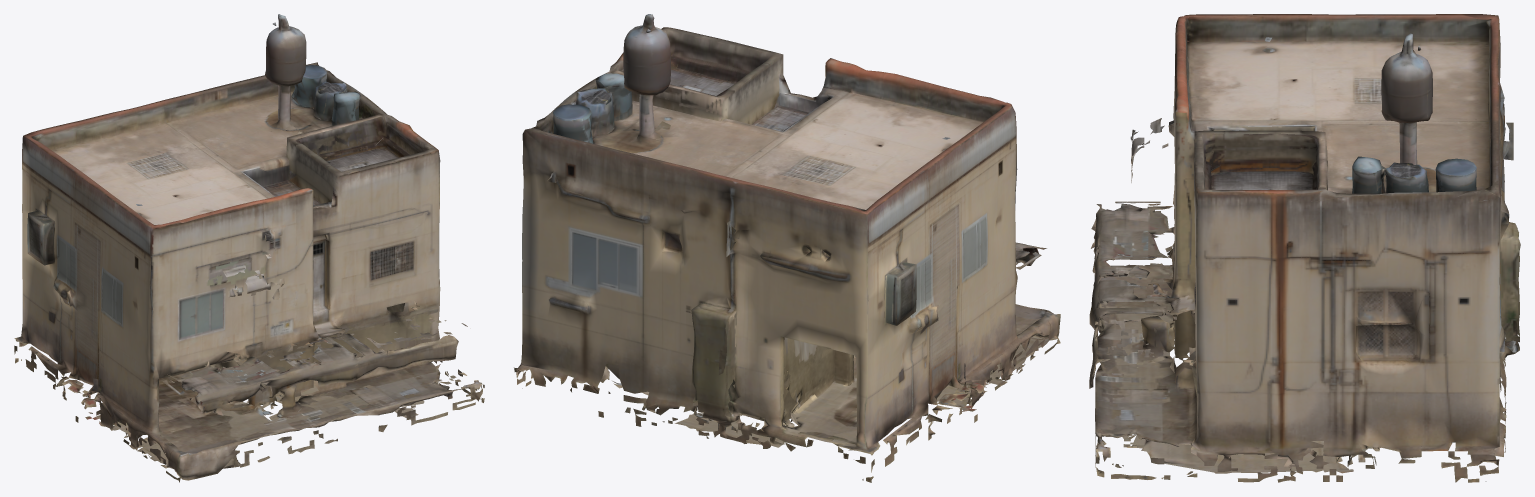
The model's file is Deserted_Rooftop_Shel_0706224128_texture.fbx.
3 renders of one model, left to right at view 1: azimuth 30°, elevation 25°; view 2: azimuth 150°, elevation 25°; view 3: azimuth 270°, elevation 25°, orthographic. The views are drawn at different scales.
Parts seen in each view (by area): view 1: Mesh1; view 2: Mesh1; view 3: Mesh1.
Part boxes in pixels (<box>): Mesh1: <box>14,14,484,482</box>; Mesh1: <box>514,14,1060,482</box>; Mesh1: <box>1089,14,1520,482</box>.
Size of the model in its own units: 197 by 187 by 183.
Materials: 1 (1 with a texture image).
